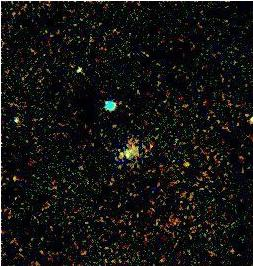star: (168, 149, 198, 179)
